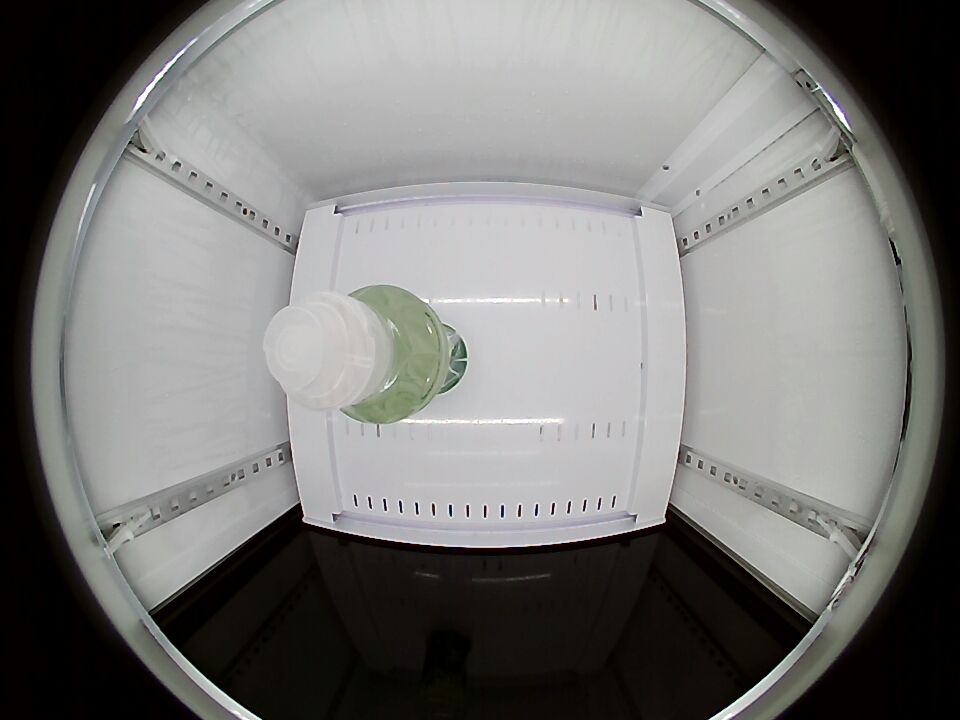jianjiao: (264, 285, 434, 423)
